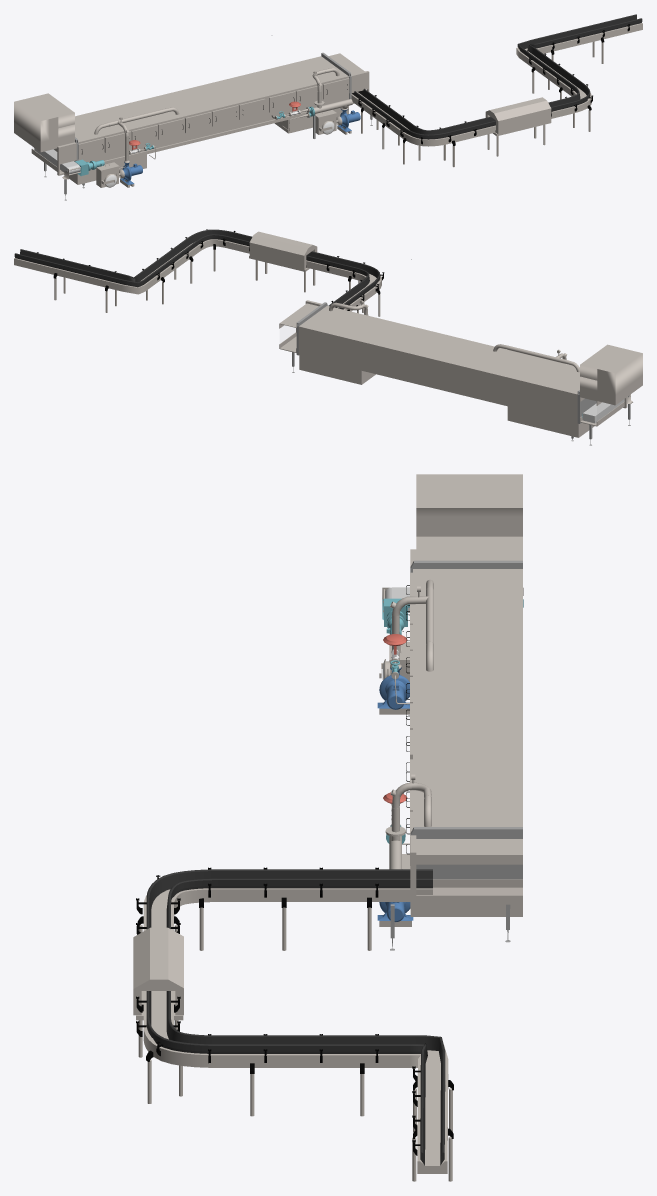
3 views of the same model, one above another, from view 1: azimuth 30°, elevation 25°; view 2: azimuth 150°, elevation 25°; view 3: azimuth 270°, elevation 25° (orthographic). The views are drawn at different scales.
Parts seen in each view (by area): view 1: SLIVER; view 2: SLIVER; view 3: SLIVER.
Boxes of the visible parts, x1,y1,x2,y2 form: SLIVER: (14, 14, 642, 200); SLIVER: (14, 229, 642, 445); SLIVER: (133, 474, 523, 1181).
Bounding box in the file's own units: 10545 × 1873 × 2957.
